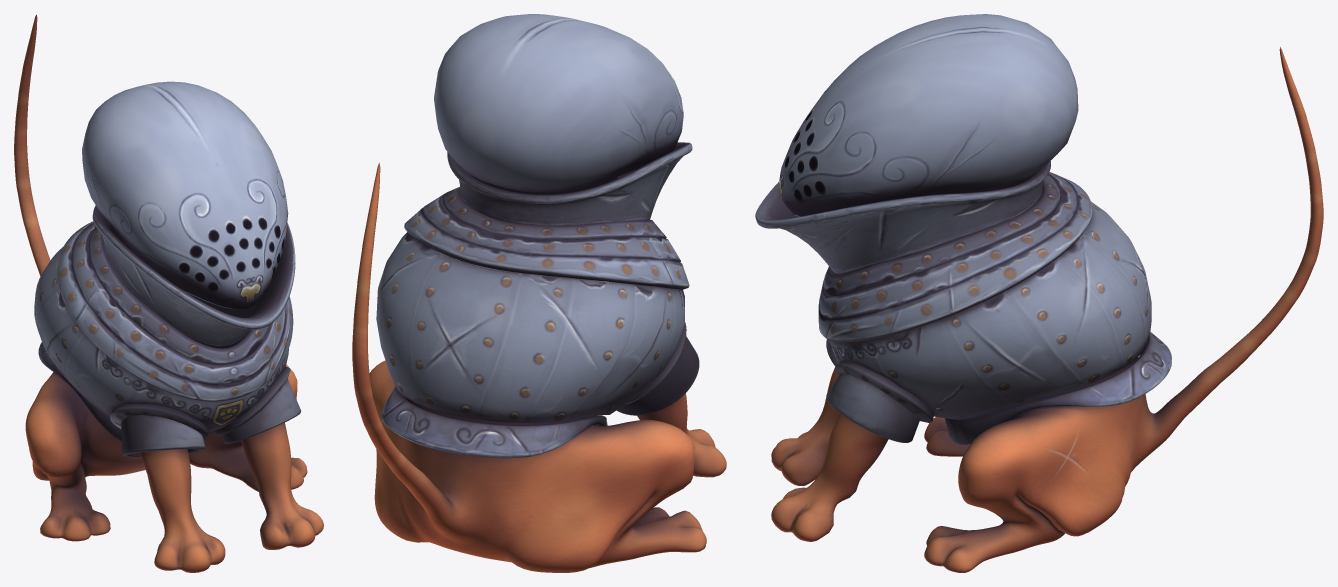
File: armored_cat.glb
3 views of the same model, side by side, from view 1: azimuth 30°, elevation 25°; view 2: azimuth 150°, elevation 25°; view 3: azimuth 270°, elevation 25° (orthographic). The views are drawn at different scales.
Parts seen in each view (by area): view 1: cat_low; view 2: cat_low; view 3: cat_low.
Part boxes in pixels (x1,y1,x2,y2): cat_low: [14, 14, 323, 572]; cat_low: [352, 14, 726, 572]; cat_low: [755, 14, 1323, 572].
Size of the model in its own units: 88.86 by 131 by 143.
Materials: 1 (1 with a texture image).
